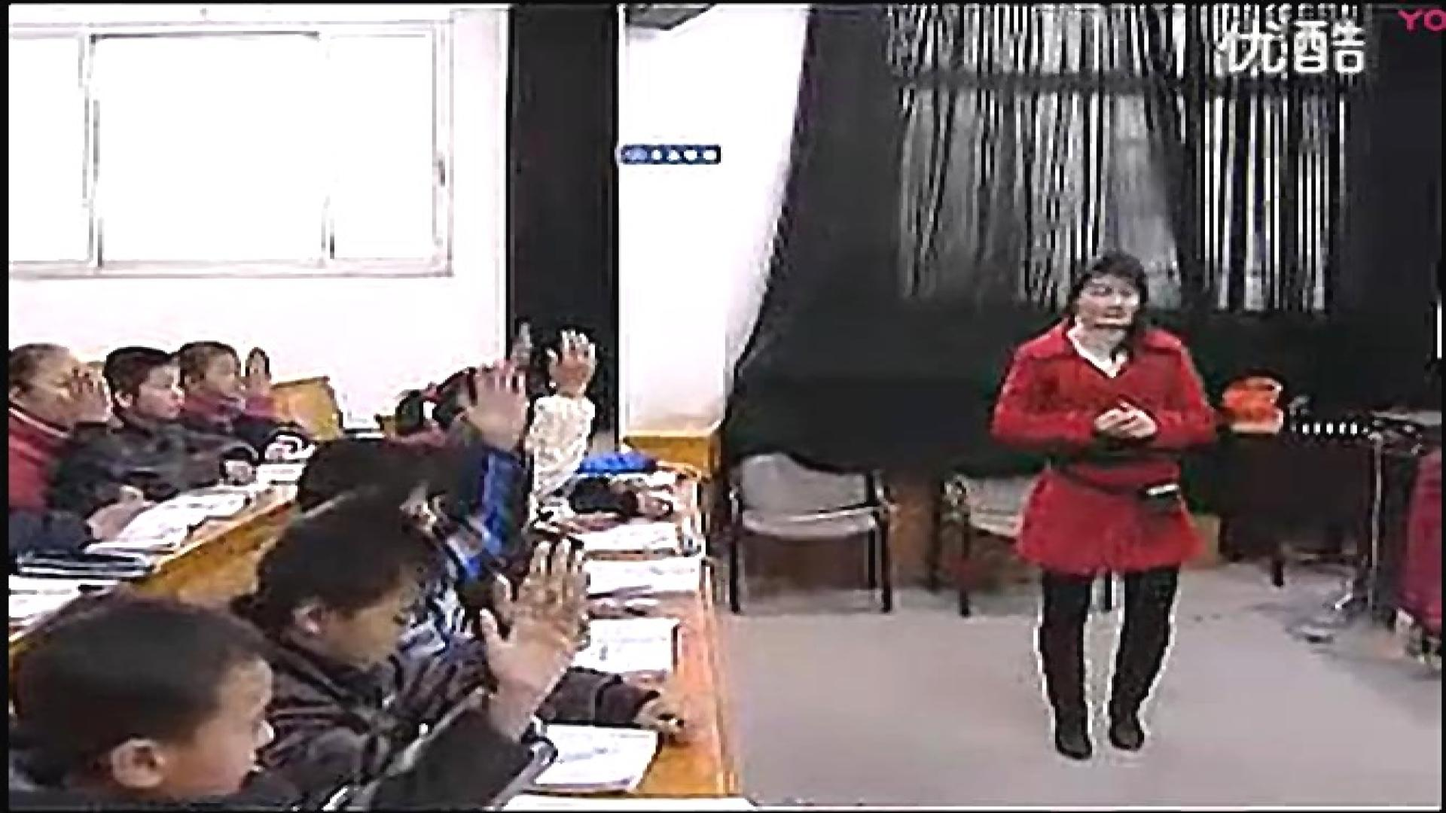Stand Up: (1039, 249, 1214, 744)
Wave: (476, 623, 550, 791), (57, 367, 125, 501), (479, 373, 528, 556), (549, 338, 604, 495)
